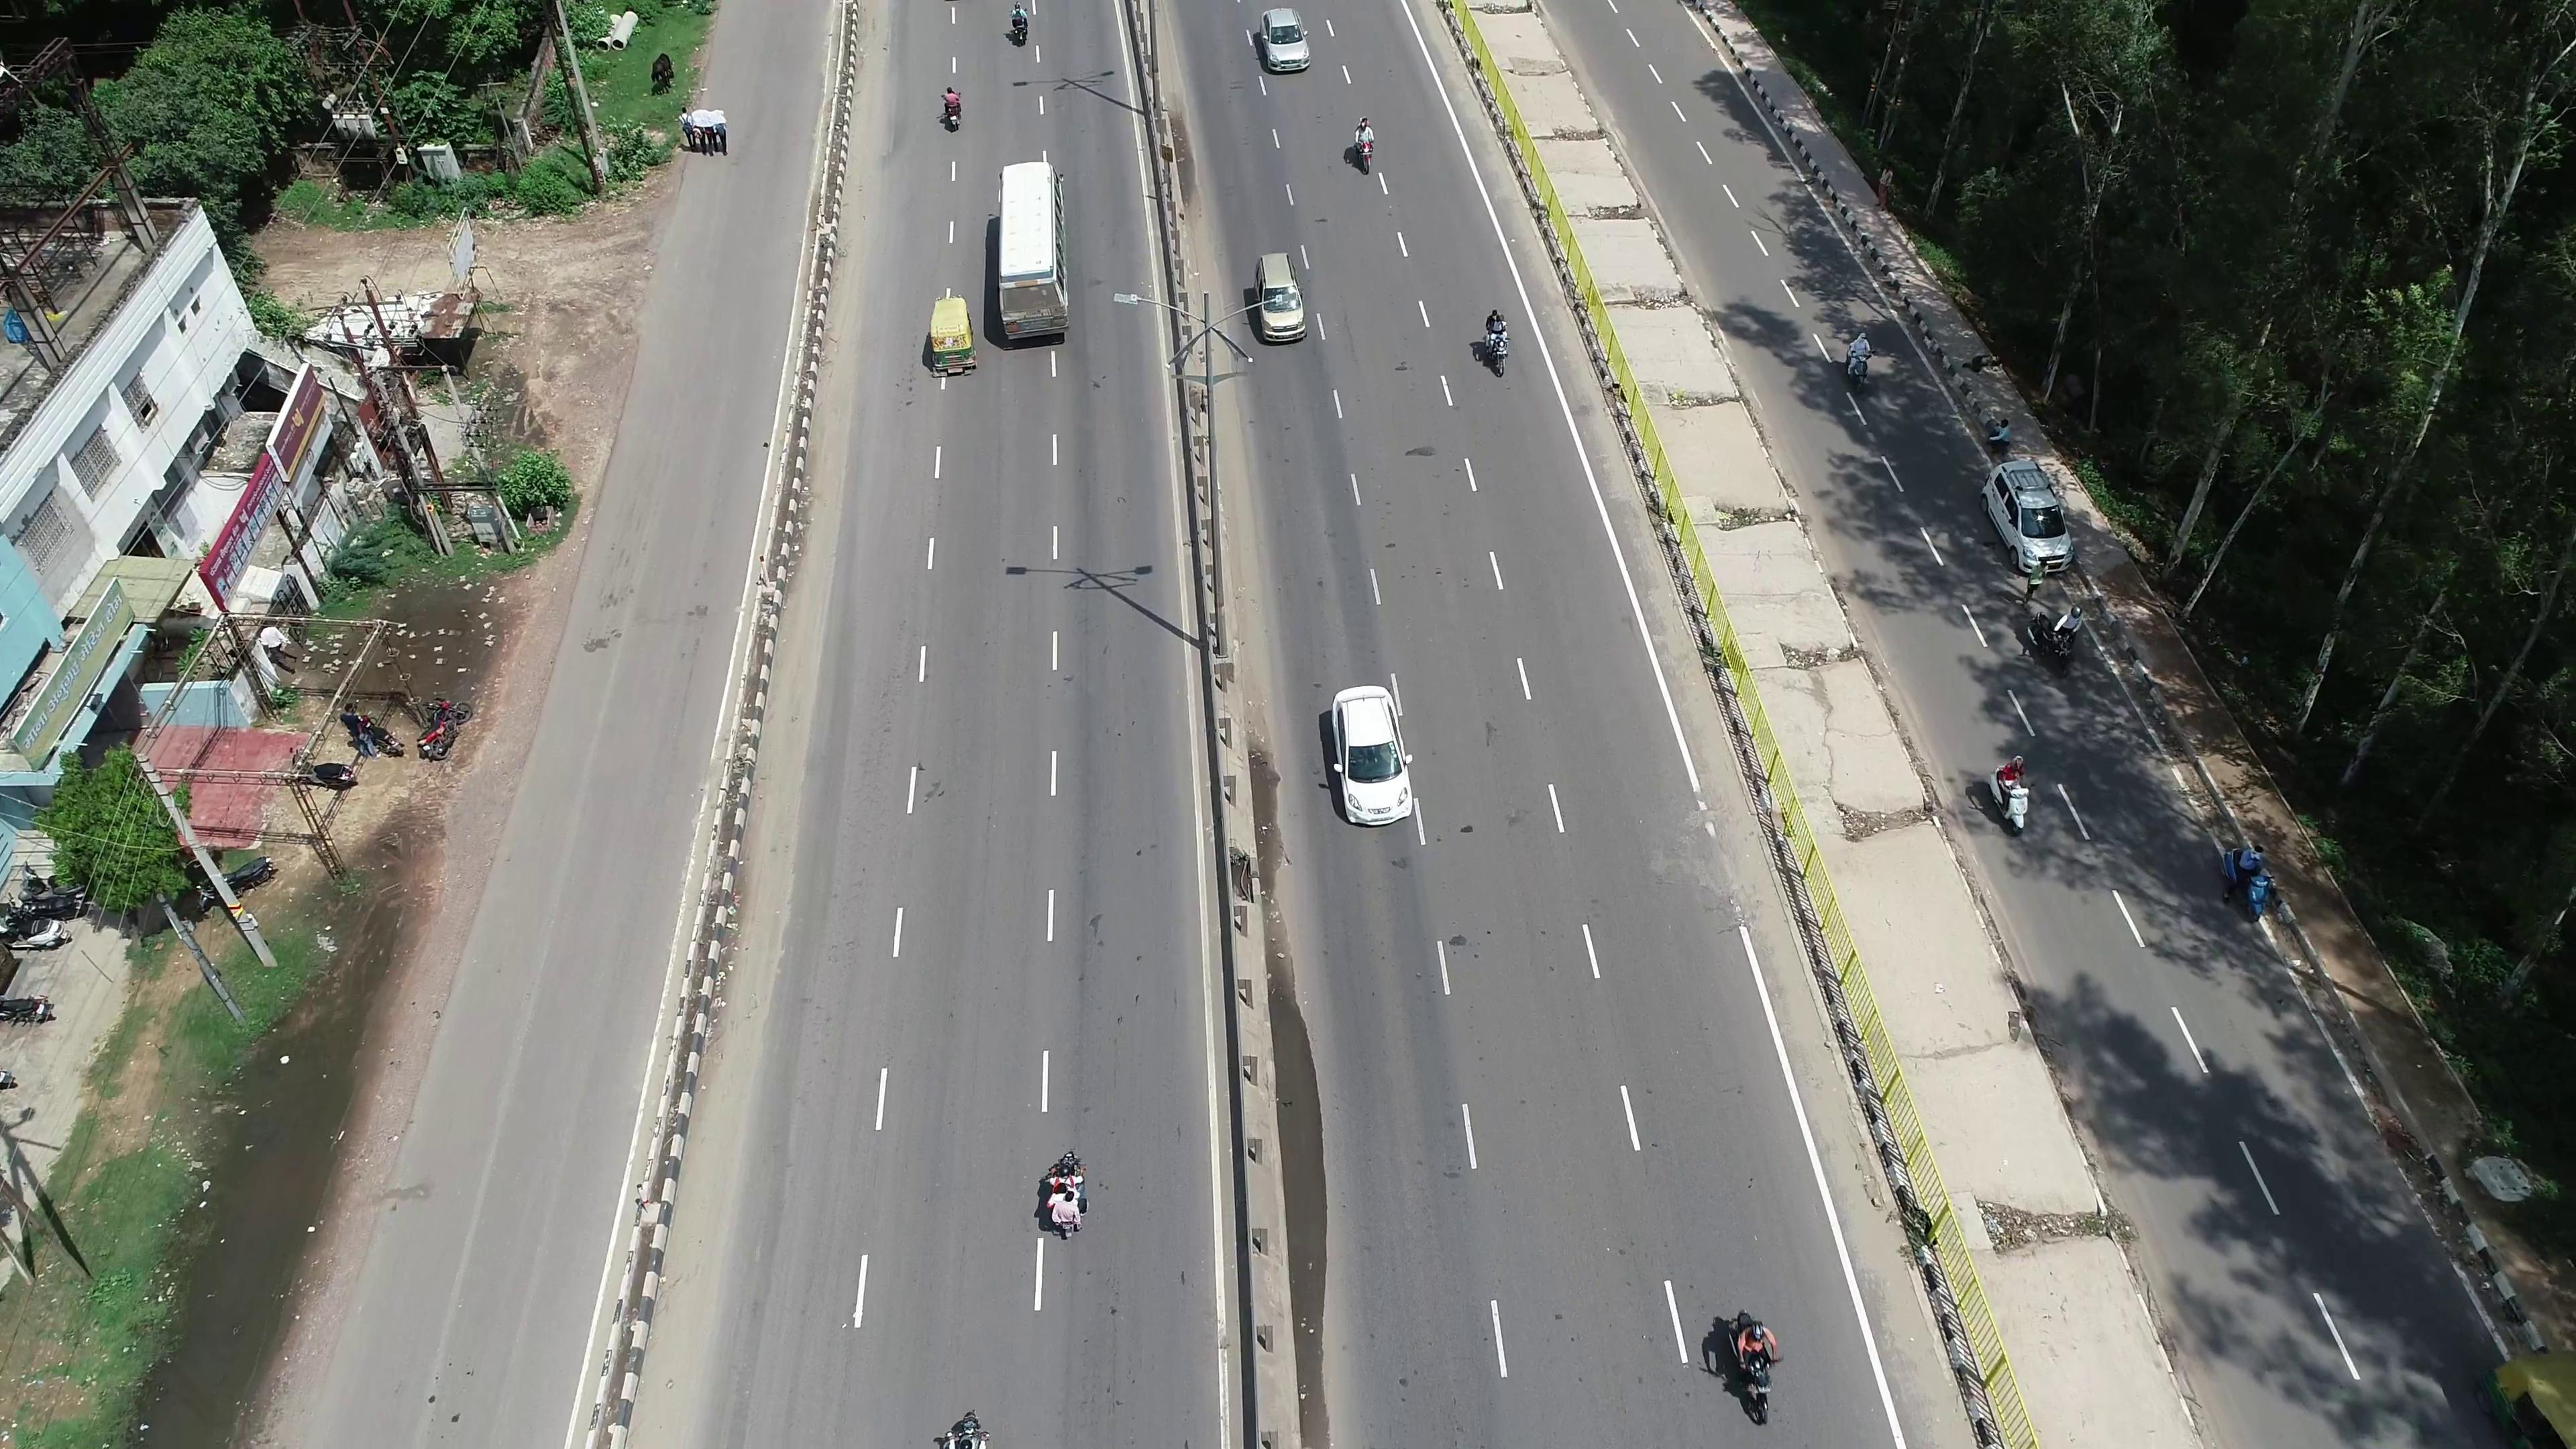Waterlogging: (1274, 1007, 1375, 1307)
